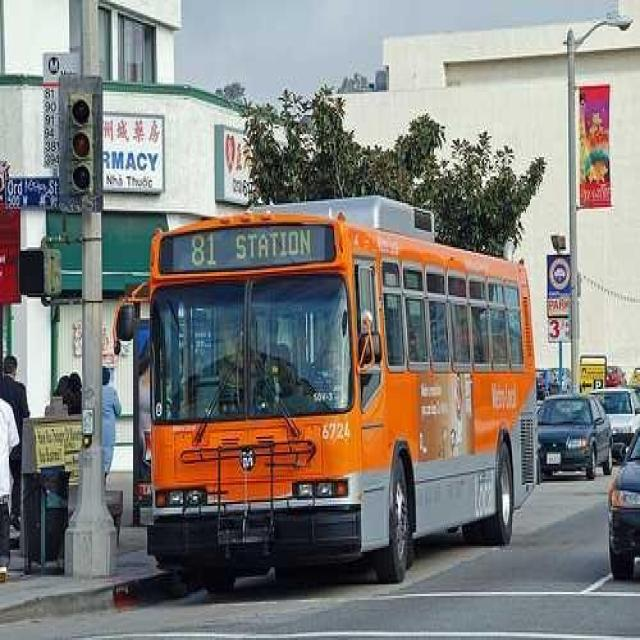Traffic Light -Off-: (68, 92, 95, 197)
